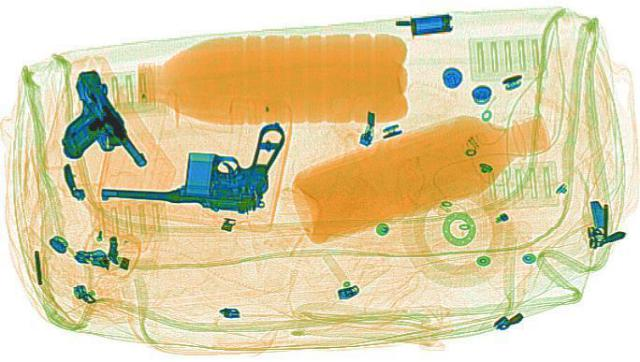Gun: (96, 118, 284, 210), (23, 67, 153, 174)
